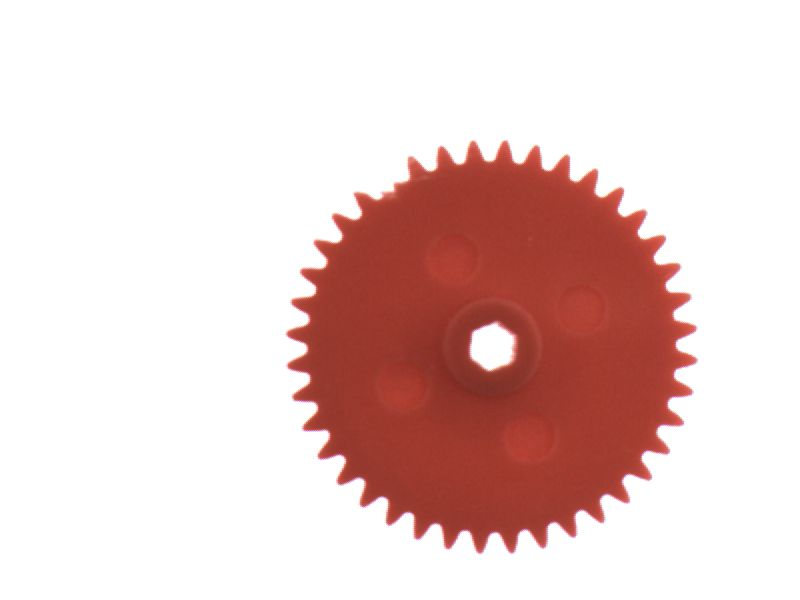defect_lack: (362, 155, 418, 210)
